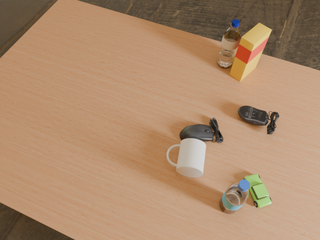bottle: (217, 19, 241, 68), (219, 179, 250, 214)
box: (230, 23, 271, 81)
cup: (167, 138, 206, 177)
mouse: (238, 106, 279, 135), (180, 117, 223, 143)
toy_car: (244, 173, 272, 208)
